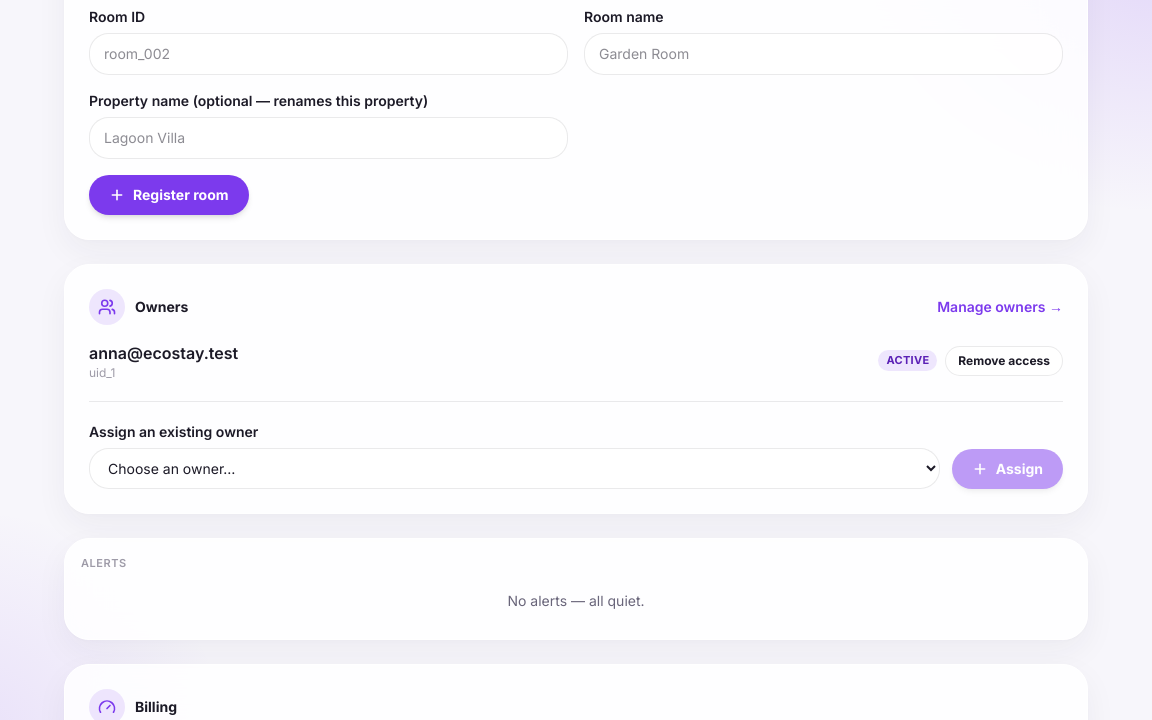
it: property detail — owner access writes (slice 06, gate #1 approved) › removing access requires confirmation, then updates the list
The width and height of the screenshot is (1152, 720).
(page scrolled)
Click the button "Remove access" at (1004,360), box left=945, top=346, right=1063, bottom=376
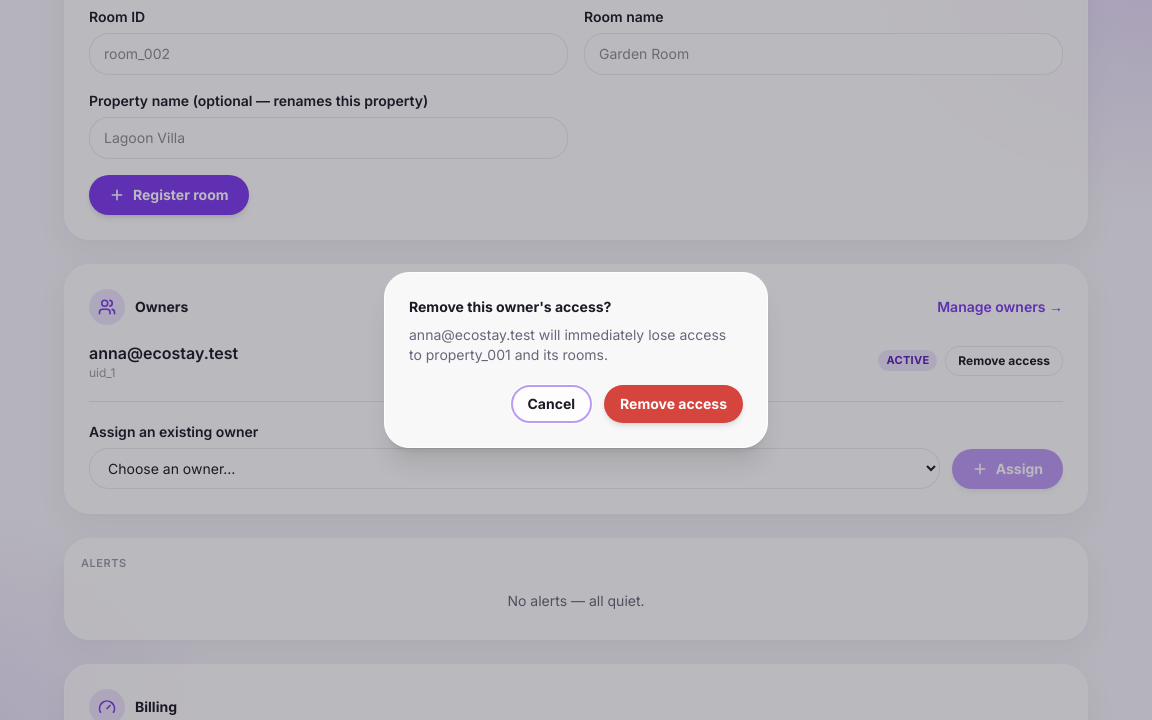
Click the button "Remove access" at (674,404), box left=604, top=385, right=743, bottom=423
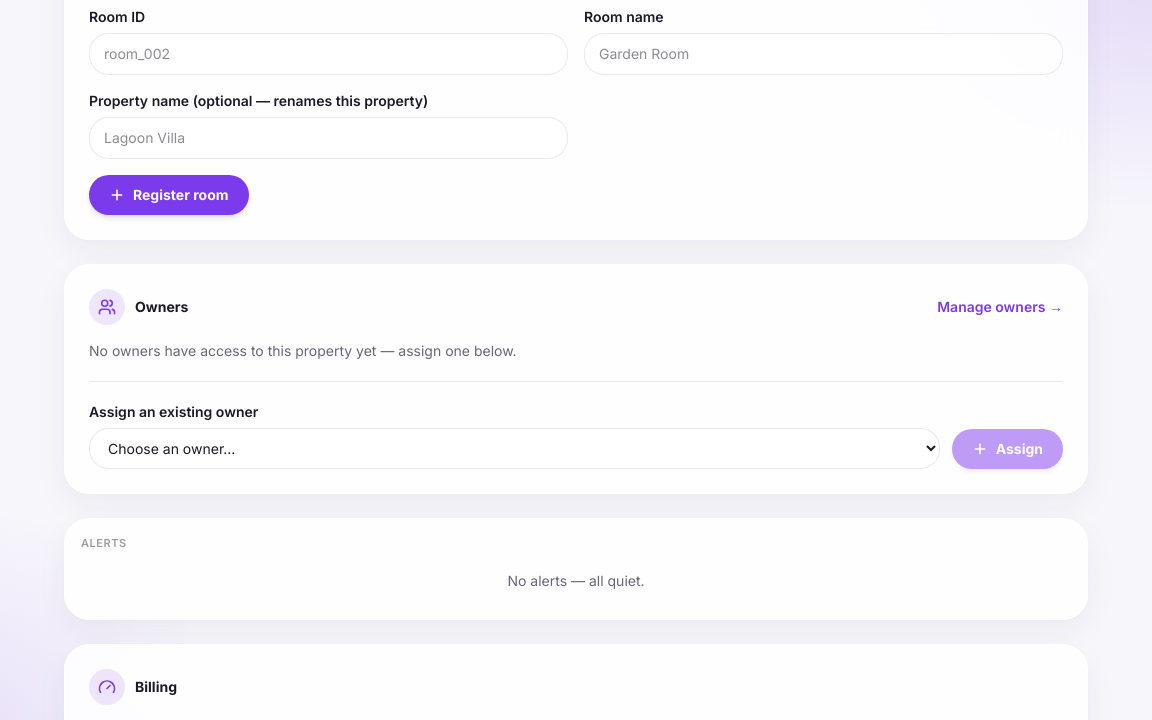
Check: the text "No owners have access" is shown, box left=89, top=342, right=517, bottom=358
